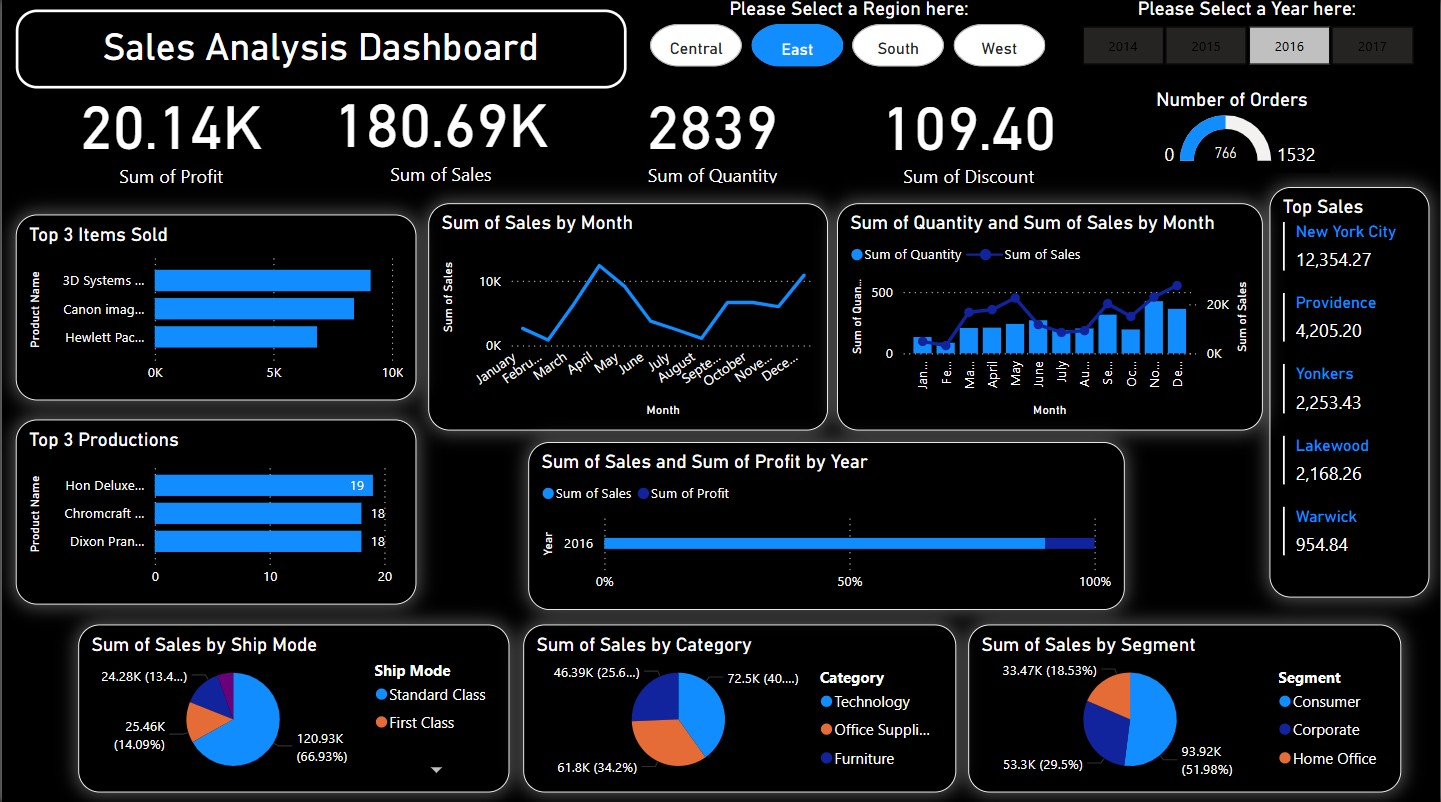

The dashboard page shown, as its layout file describes it:
{"tool":"powerbi","page":{"name":"Page 1","canvas":[1280,720],"ordinal":0},"visuals":[{"type":"card","fields":{"Values":["Sum(sample_-_superstore xls - Orders.Profit)"]},"box":[42.3,70.1,217.1,101.3],"z":0},{"type":"card","fields":{"Values":["Sum(sample_-_superstore xls - Orders.Sales)"]},"box":[273.6,67.5,234.4,101.8],"z":1000},{"type":"card","fields":{"Values":["Sum(sample_-_superstore xls - Orders.Discount)"]},"box":[763.2,69.9,195.1,101.8],"z":2000},{"type":"card","fields":{"Values":["Sum(sample_-_superstore xls - Orders.Quantity)"]},"box":[531.3,68.7,203.7,101.8],"z":3000},{"type":"advancedSlicerVisual","title":"Please Select a Region here: ","fields":{"Values":["sample_-_superstore xls - Orders.Region"]},"box":[572.2,0,363.6,67.2],"z":4000},{"type":"slicer","title":"Please Select a Year here: ","fields":{"Values":["sample_-_superstore xls - Orders.Order Date.Variation.Date Hierarchy.Year"]},"box":[935.9,0,344.4,67.2],"z":5000},{"type":"multiRowCard","title":"Top Sales","fields":{"Values":["Sum(sample_-_superstore xls - Orders.Profit)","sample_-_superstore xls - Orders.City"]},"box":[1128.8,169.3,142.3,365.6],"z":6000},{"type":"lineChart","fields":{"Category":["sample_-_superstore xls - Orders.Order Date.Variation.Date Hierarchy.Month"],"Y":["Sum(sample_-_superstore xls - Orders.Sales)"]},"box":[379.1,184.1,355.8,202.5],"z":7000},{"type":"pieChart","fields":{"Y":["Sum(sample_-_superstore xls - Orders.Sales)"],"Category":["sample_-_superstore xls - Orders.Ship Mode"]},"box":[67.5,558.3,384.1,149.7],"z":8000},{"type":"pieChart","fields":{"Y":["Sum(sample_-_superstore xls - Orders.Sales)"],"Category":["sample_-_superstore xls - Orders.Segment"]},"box":[860.1,558.3,385.3,149.7],"z":9000},{"type":"pieChart","fields":{"Y":["Sum(sample_-_superstore xls - Orders.Sales)"],"Category":["sample_-_superstore xls - Orders.Category"]},"box":[463.8,558.3,385.3,149.7],"z":10000},{"type":"gauge","title":"Number of Orders","fields":{"Y":["CountNonNull(sample_-_superstore xls - Orders.Postal Code)"]},"box":[1023.3,81,159.5,74.8],"z":11000},{"type":"lineStackedColumnComboChart","fields":{"Category":["sample_-_superstore xls - Orders.Order Date.Variation.Date Hierarchy.Month"],"Y":["Sum(sample_-_superstore xls - Orders.Quantity)"],"Y2":["Sum(sample_-_superstore xls - Orders.Sales)"]},"box":[743.6,184.1,379.1,202.5],"z":12000},{"type":"barChart","title":"Top 3 Items Sold","fields":{"Category":["sample_-_superstore xls - Orders.Product Name"],"Y":["Sum(sample_-_superstore xls - Orders.Sales)"]},"box":[12.3,193.9,357.1,165.6],"z":13000},{"type":"barChart","title":"Top 3 Productions","fields":{"Category":["sample_-_superstore xls - Orders.Product Name"],"Y":["Sum(sample_-_superstore xls - Orders.Quantity)"]},"box":[12.3,376.7,357.1,165],"z":14000},{"type":"hundredPercentStackedBarChart","fields":{"Category":["sample_-_superstore xls - Orders.Order Date.Variation.Date Hierarchy.Year","sample_-_superstore xls - Orders.Order Date.Variation.Date Hierarchy.Quarter"],"Y":["Sum(sample_-_superstore xls - Orders.Sales)","Sum(sample_-_superstore xls - Orders.Profit)"]},"box":[468.7,396.3,531.3,149.7],"z":15000},{"type":"textbox","box":[12.2,11.1,544.3,70.1],"z":15001}]}

Visuals, with their boxes in screenshot pixels (x1, y1, x2, y2), scaled from the page's 1280x720 canvas onto the 1441x802 screenshot:
card - Sum(sample_-_superstore xls - Orders.Profit): [48,78,292,191]
card - Sum(sample_-_superstore xls - Orders.Sales): [308,75,572,189]
card - Sum(sample_-_superstore xls - Orders.Discount): [859,78,1079,191]
card - Sum(sample_-_superstore xls - Orders.Quantity): [598,77,827,190]
"Please Select a Region here: " advancedSlicerVisual: [644,0,1054,75]
"Please Select a Year here: " slicer: [1054,0,1440,75]
"Top Sales" multiRowCard: [1271,189,1431,596]
lineChart - sample_-_superstore xls - Orders.Order Date.Variation.Date Hierarchy.Month x Sum(sample_-_superstore xls - Orders.Sales): [427,205,827,431]
pieChart - Sum(sample_-_superstore xls - Orders.Sales) x sample_-_superstore xls - Orders.Ship Mode: [76,622,508,789]
pieChart - Sum(sample_-_superstore xls - Orders.Sales) x sample_-_superstore xls - Orders.Segment: [968,622,1402,789]
pieChart - Sum(sample_-_superstore xls - Orders.Sales) x sample_-_superstore xls - Orders.Category: [522,622,956,789]
"Number of Orders" gauge: [1152,90,1332,174]
lineStackedColumnComboChart - sample_-_superstore xls - Orders.Order Date.Variation.Date Hierarchy.Month x Sum(sample_-_superstore xls - Orders.Quantity): [837,205,1264,431]
"Top 3 Items Sold" barChart: [14,216,416,400]
"Top 3 Productions" barChart: [14,420,416,603]
hundredPercentStackedBarChart - sample_-_superstore xls - Orders.Order Date.Variation.Date Hierarchy.Year x sample_-_superstore xls - Orders.Order Date.Variation.Date Hierarchy.Quarter: [528,441,1126,608]
textbox: [14,12,626,90]
